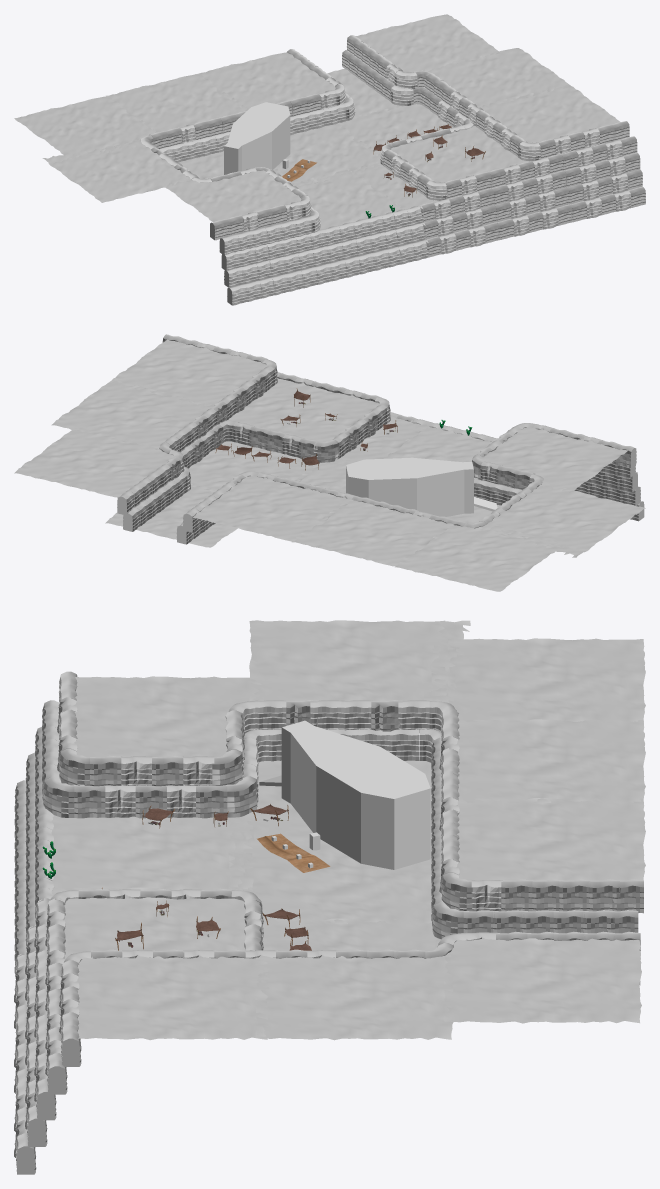
Rendered from Shop_Ruins_Collapsed.fbx.
3 views of the same model, one above another, from view 1: azimuth 30°, elevation 25°; view 2: azimuth 150°, elevation 25°; view 3: azimuth 270°, elevation 25° (orthographic). The views are drawn at different scales.
Parts seen in each view (by area): view 1: Plane078, level1_wall228, SpaceShip, Tend016; view 2: Plane078, level1_wall228, SpaceShip, Tend016; view 3: Plane078, level1_wall228, SpaceShip, Tend016, Carpet.
Boxes of the visible parts, x1,y1,x2,y2 form: Plane078: (14,14,620,229); level1_wall228: (140,35,645,305); SpaceShip: (224,102,290,174); Tend016: (373,124,485,197); Plane078: (14,339,645,591); level1_wall228: (117,334,644,544); SpaceShip: (346,457,497,516); Tend016: (215,388,397,470); Plane078: (50,620,645,1040); level1_wall228: (14,671,643,1174); SpaceShip: (259,720,430,869); Tend016: (102,804,311,950); Carpet: (257,833,330,872).
Bounding box in the file's own units: 5048 × 841 × 3178.
